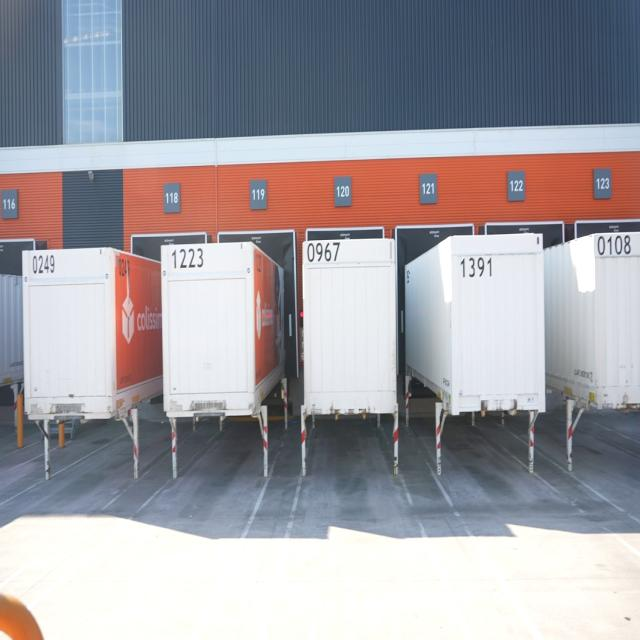Code: (305, 238, 345, 267), (459, 252, 497, 282), (595, 232, 635, 258), (168, 244, 204, 271), (29, 250, 58, 282)
